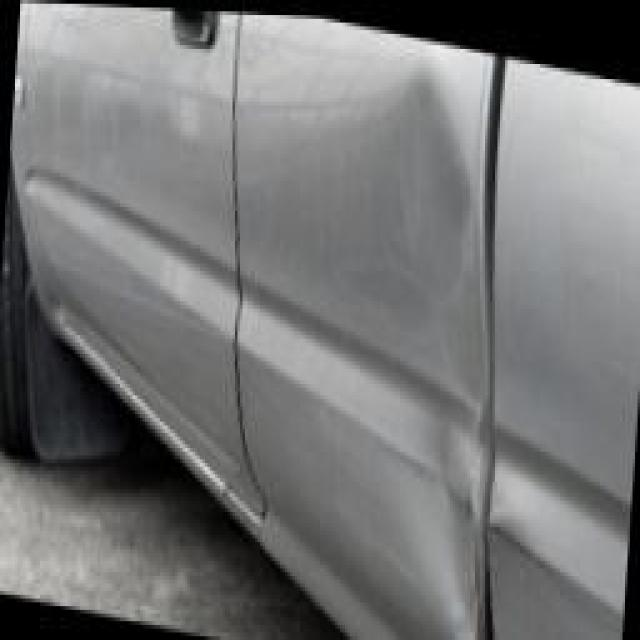Door: (230, 38, 522, 495)
